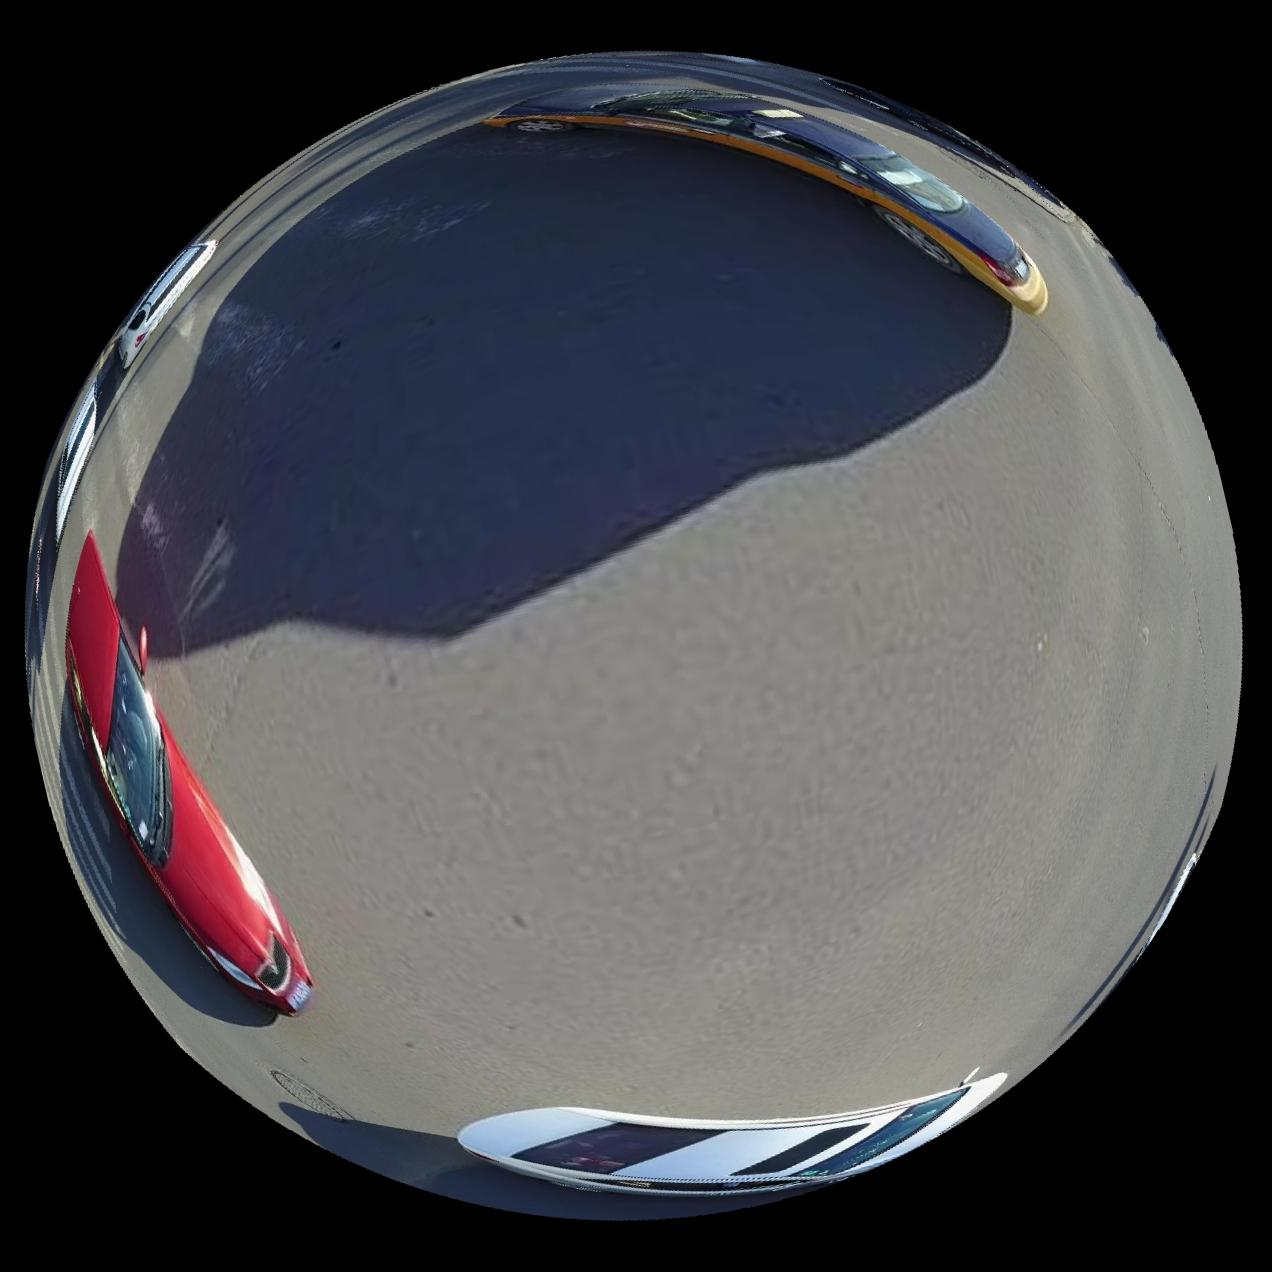cars: (488, 83, 1051, 313), (64, 534, 311, 1014), (457, 1075, 1007, 1199), (115, 240, 215, 366)
